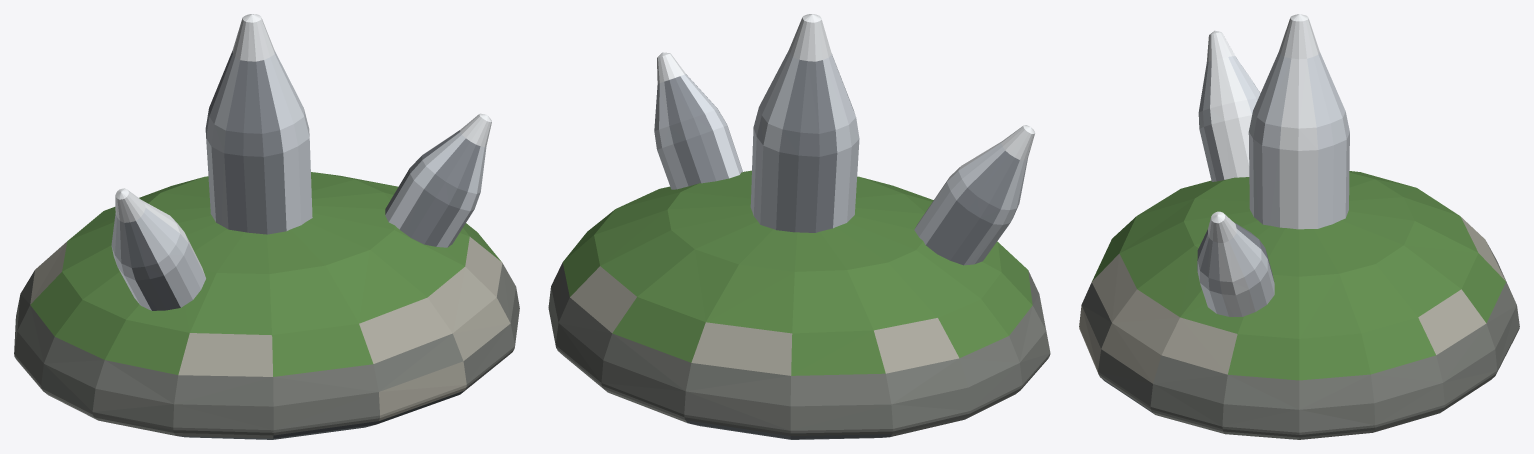
Rendered from OreVein3Far.obj.
The picture shows the model from 3 angles, left to right: view 1: azimuth 30°, elevation 25°; view 2: azimuth 150°, elevation 25°; view 3: azimuth 270°, elevation 25°; orthographic projection. The views are drawn at different scales.
Size of the model in its own units: 5.17 by 4 by 4.57.
